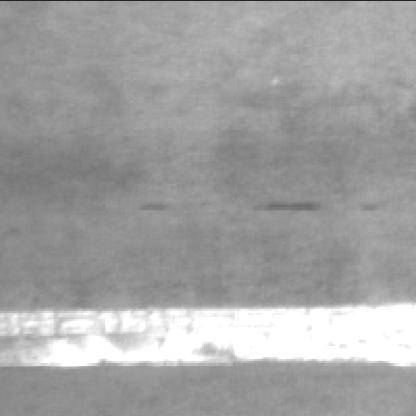inclusion: (248, 190, 326, 216)
scratches: (0, 296, 412, 368)
